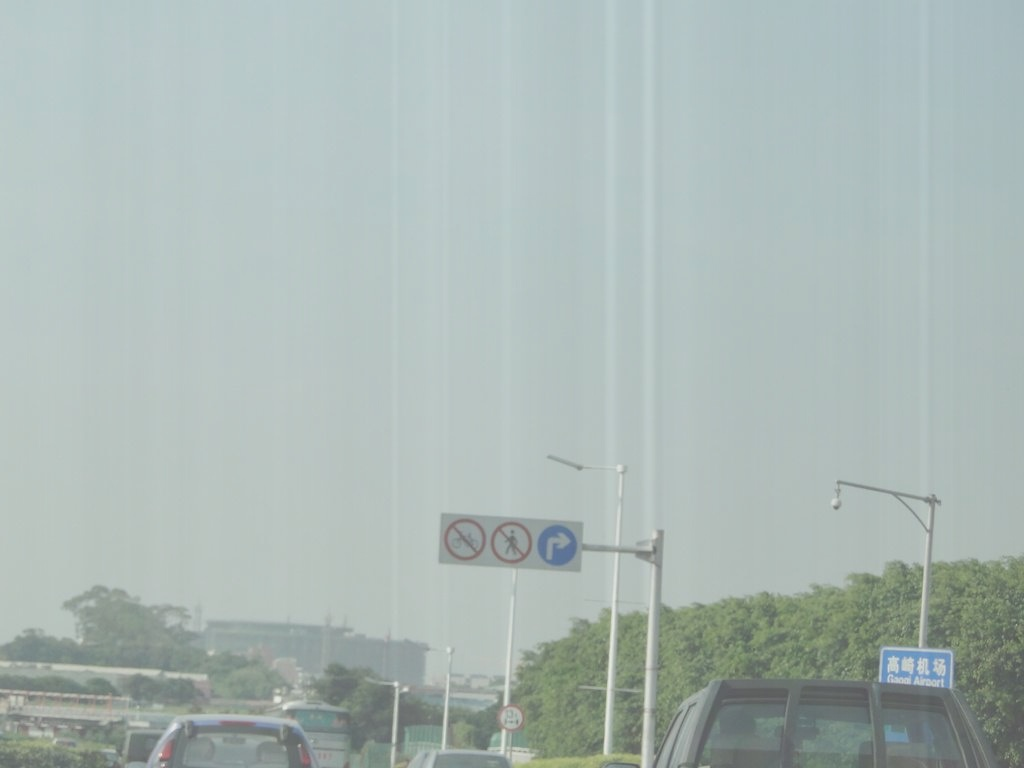Informative Signs: (535, 520, 582, 570)
Prohibitory Signs: (488, 519, 536, 567), (440, 516, 489, 563)
